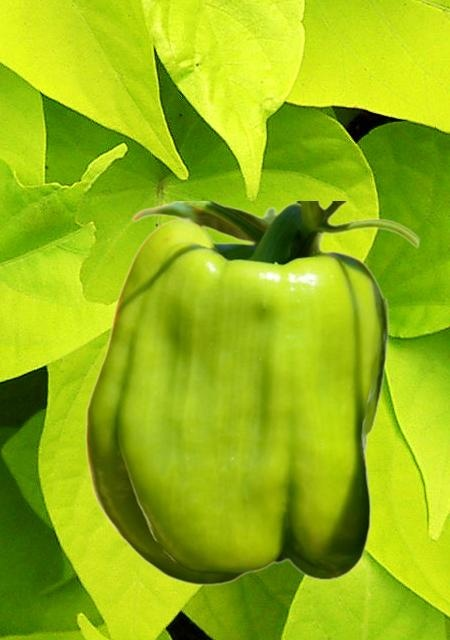bell_pepper: (84, 201, 419, 585)
